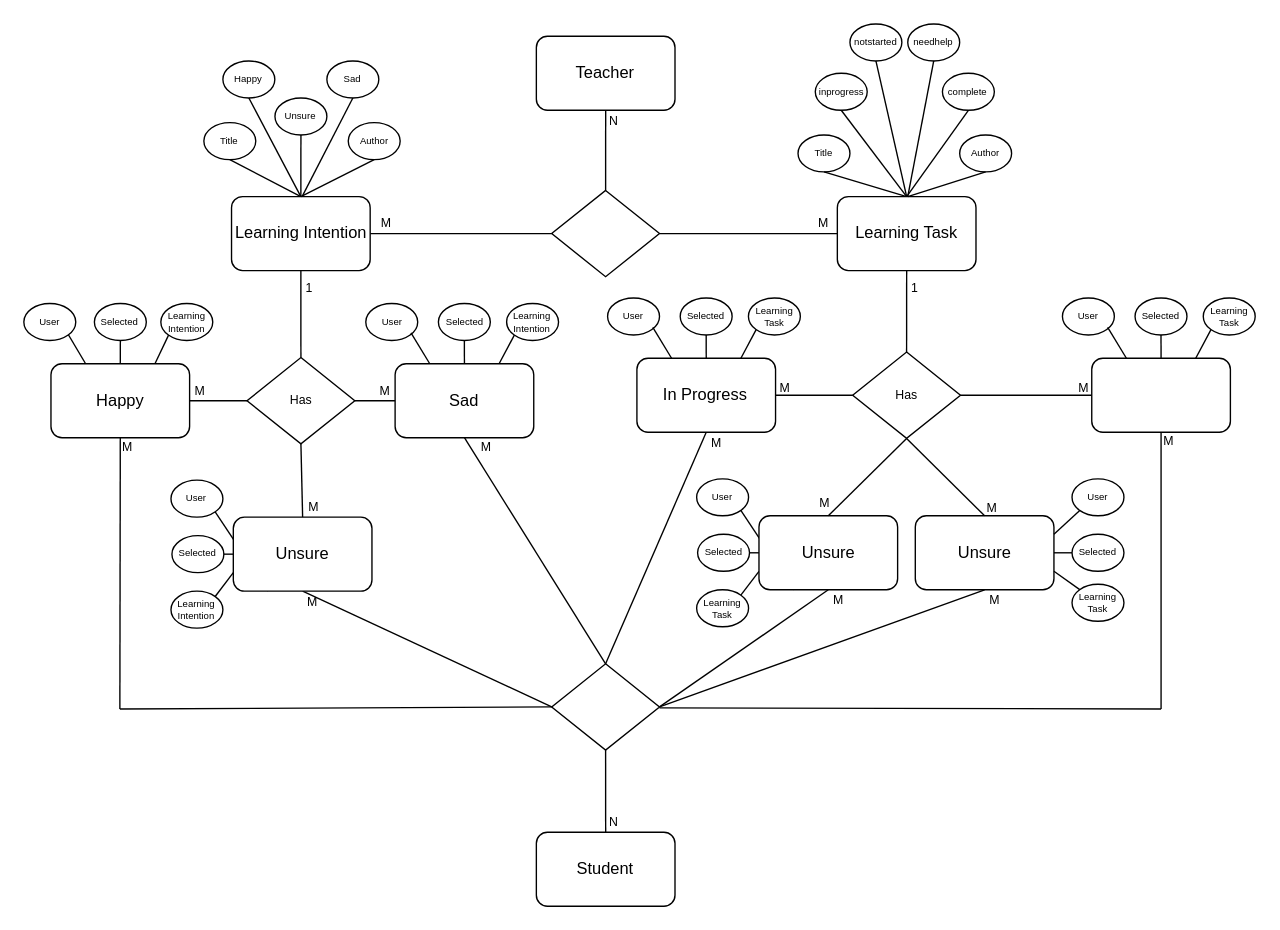
This 1280x930 diagram has some shape labels left out. The shapes that lost their labels are listed below. From the top down, each one's centre as x and y in pixels, then its label:
At pixel 605 233: "Creates/ Edits".
At pixel 1160 394: "Not Started".
At pixel 605 706: "Selects/ Unselects".
